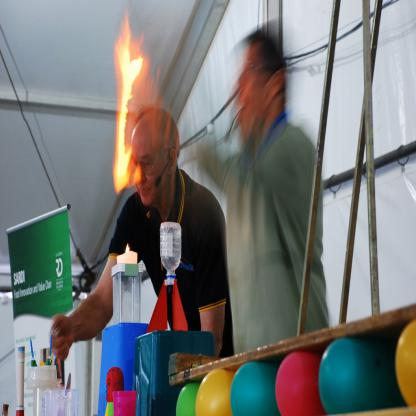Ball: (320, 340, 378, 416), (274, 352, 322, 416), (231, 362, 276, 416), (396, 314, 415, 409), (196, 368, 230, 416), (177, 382, 200, 416)
